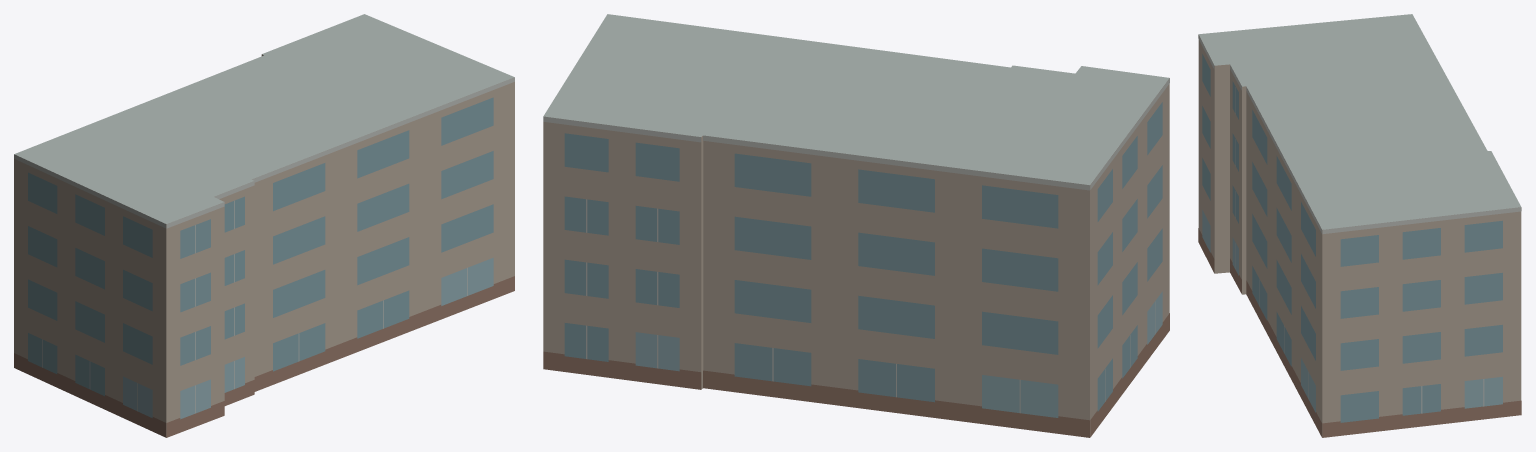
File: survey-upis-32631664.glb
The picture shows the model from 3 angles, left to right: view 1: azimuth 30°, elevation 25°; view 2: azimuth 150°, elevation 25°; view 3: azimuth 270°, elevation 25°; orthographic projection. The views are drawn at different scales.
Visible parts, largest first — view 1: survey-upis-32631664.tmp; view 2: survey-upis-32631664.tmp; view 3: survey-upis-32631664.tmp.
Boxes of the visible parts, left/top/right/bottom form: survey-upis-32631664.tmp: left=14, top=14, right=514, bottom=437; survey-upis-32631664.tmp: left=543, top=14, right=1169, bottom=437; survey-upis-32631664.tmp: left=1198, top=14, right=1521, bottom=437.
Bounding box in the file's own units: 25.83 × 11.6 × 16.33.
